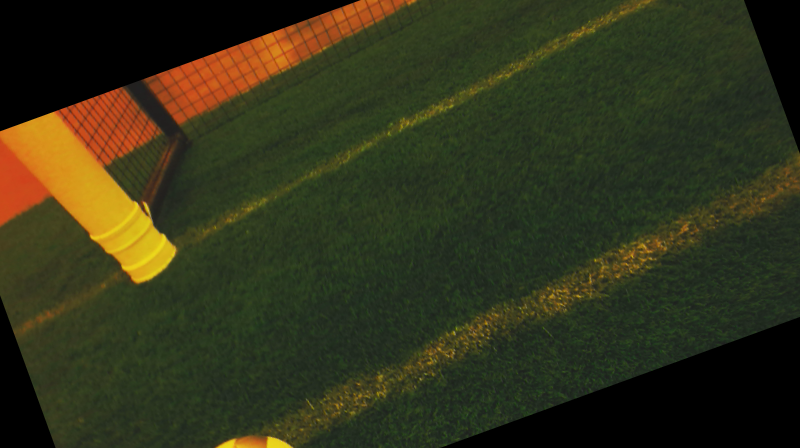post: (64, 202, 196, 306)
